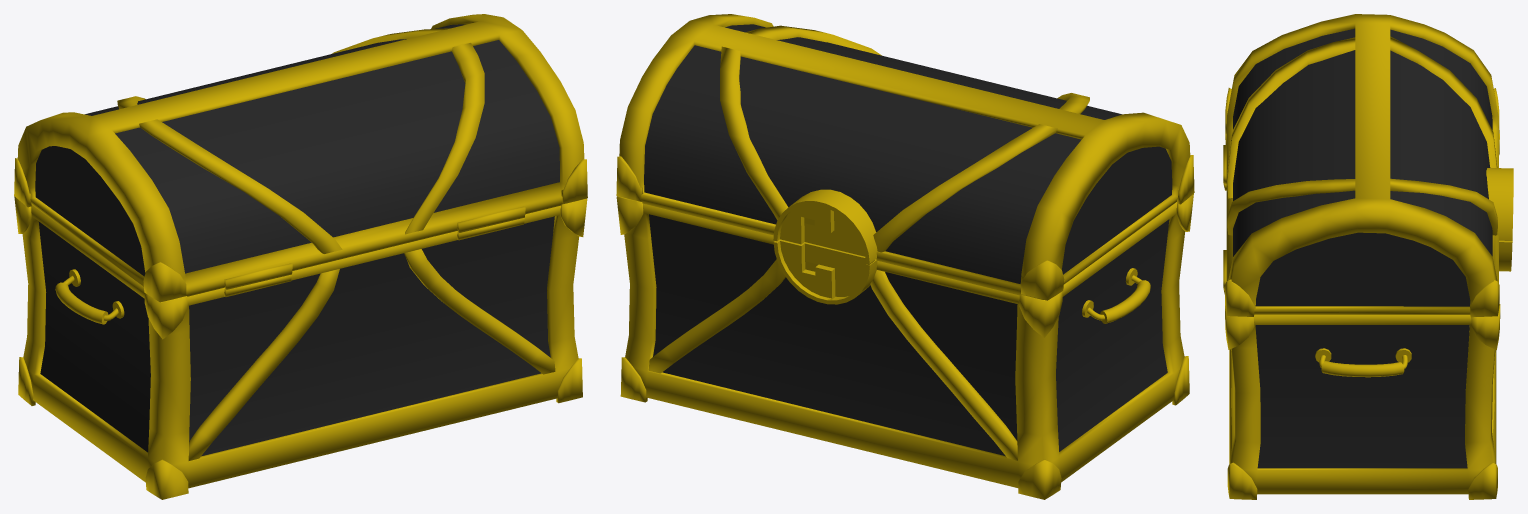
The model's file is chest.FBX.
The picture shows the model from 3 angles, left to right: view 1: azimuth 30°, elevation 25°; view 2: azimuth 150°, elevation 25°; view 3: azimuth 270°, elevation 25°; orthographic projection. The views are drawn at different scales.
Visible parts, largest first — view 1: Object001, Object002; view 2: Object001, Object002; view 3: Object002, Object001.
Part boxes in pixels (left/top/right/bottom): Object001: left=14, top=196, right=587, bottom=499; Object002: left=14, top=14, right=587, bottom=302; Object001: left=616, top=193, right=1193, bottom=499; Object002: left=616, top=14, right=1194, bottom=300; Object002: left=1223, top=14, right=1513, bottom=317; Object001: left=1223, top=130, right=1512, bottom=499.
Size of the model in its own units: 89.82 by 59.15 by 52.95.
